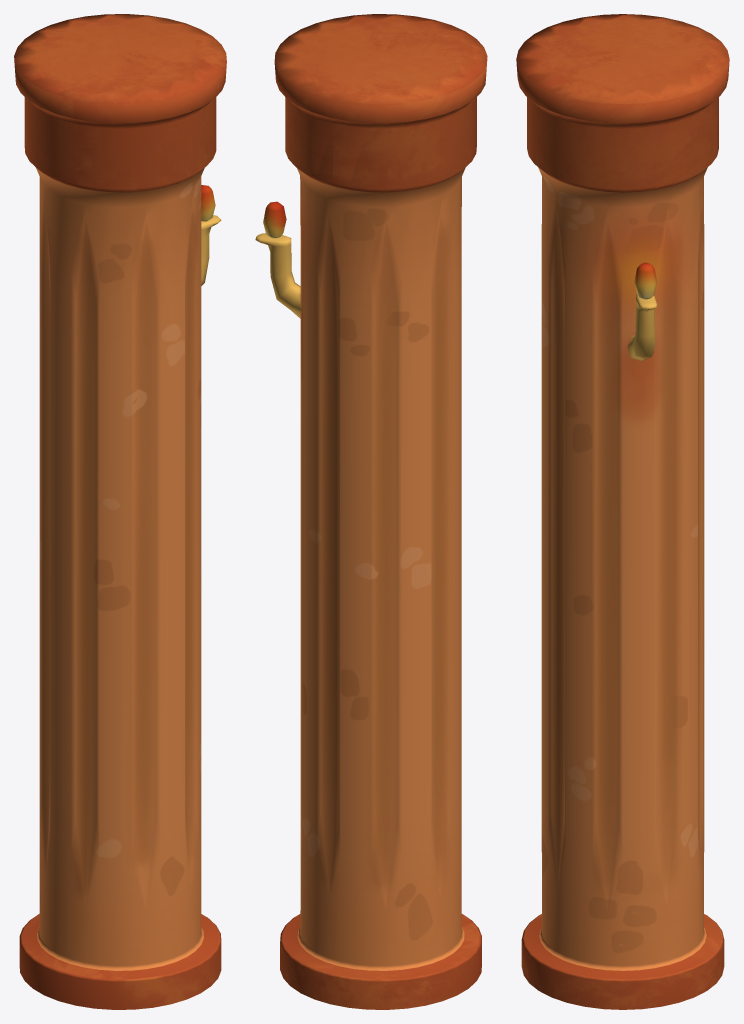
Rendered from Pillar.fbx.
3 renders of one model, left to right at view 1: azimuth 30°, elevation 25°; view 2: azimuth 150°, elevation 25°; view 3: azimuth 270°, elevation 25°, orthographic.
Visible parts, largest first — view 1: Pillar1; view 2: Pillar1; view 3: Pillar1.
Part boxes in pixels (<box>): Pillar1: <box>14,14,226,1009</box>; Pillar1: <box>255,14,487,1009</box>; Pillar1: <box>516,14,729,1009</box>.
Size of the model in its own units: 44.47 by 190 by 40.28.
